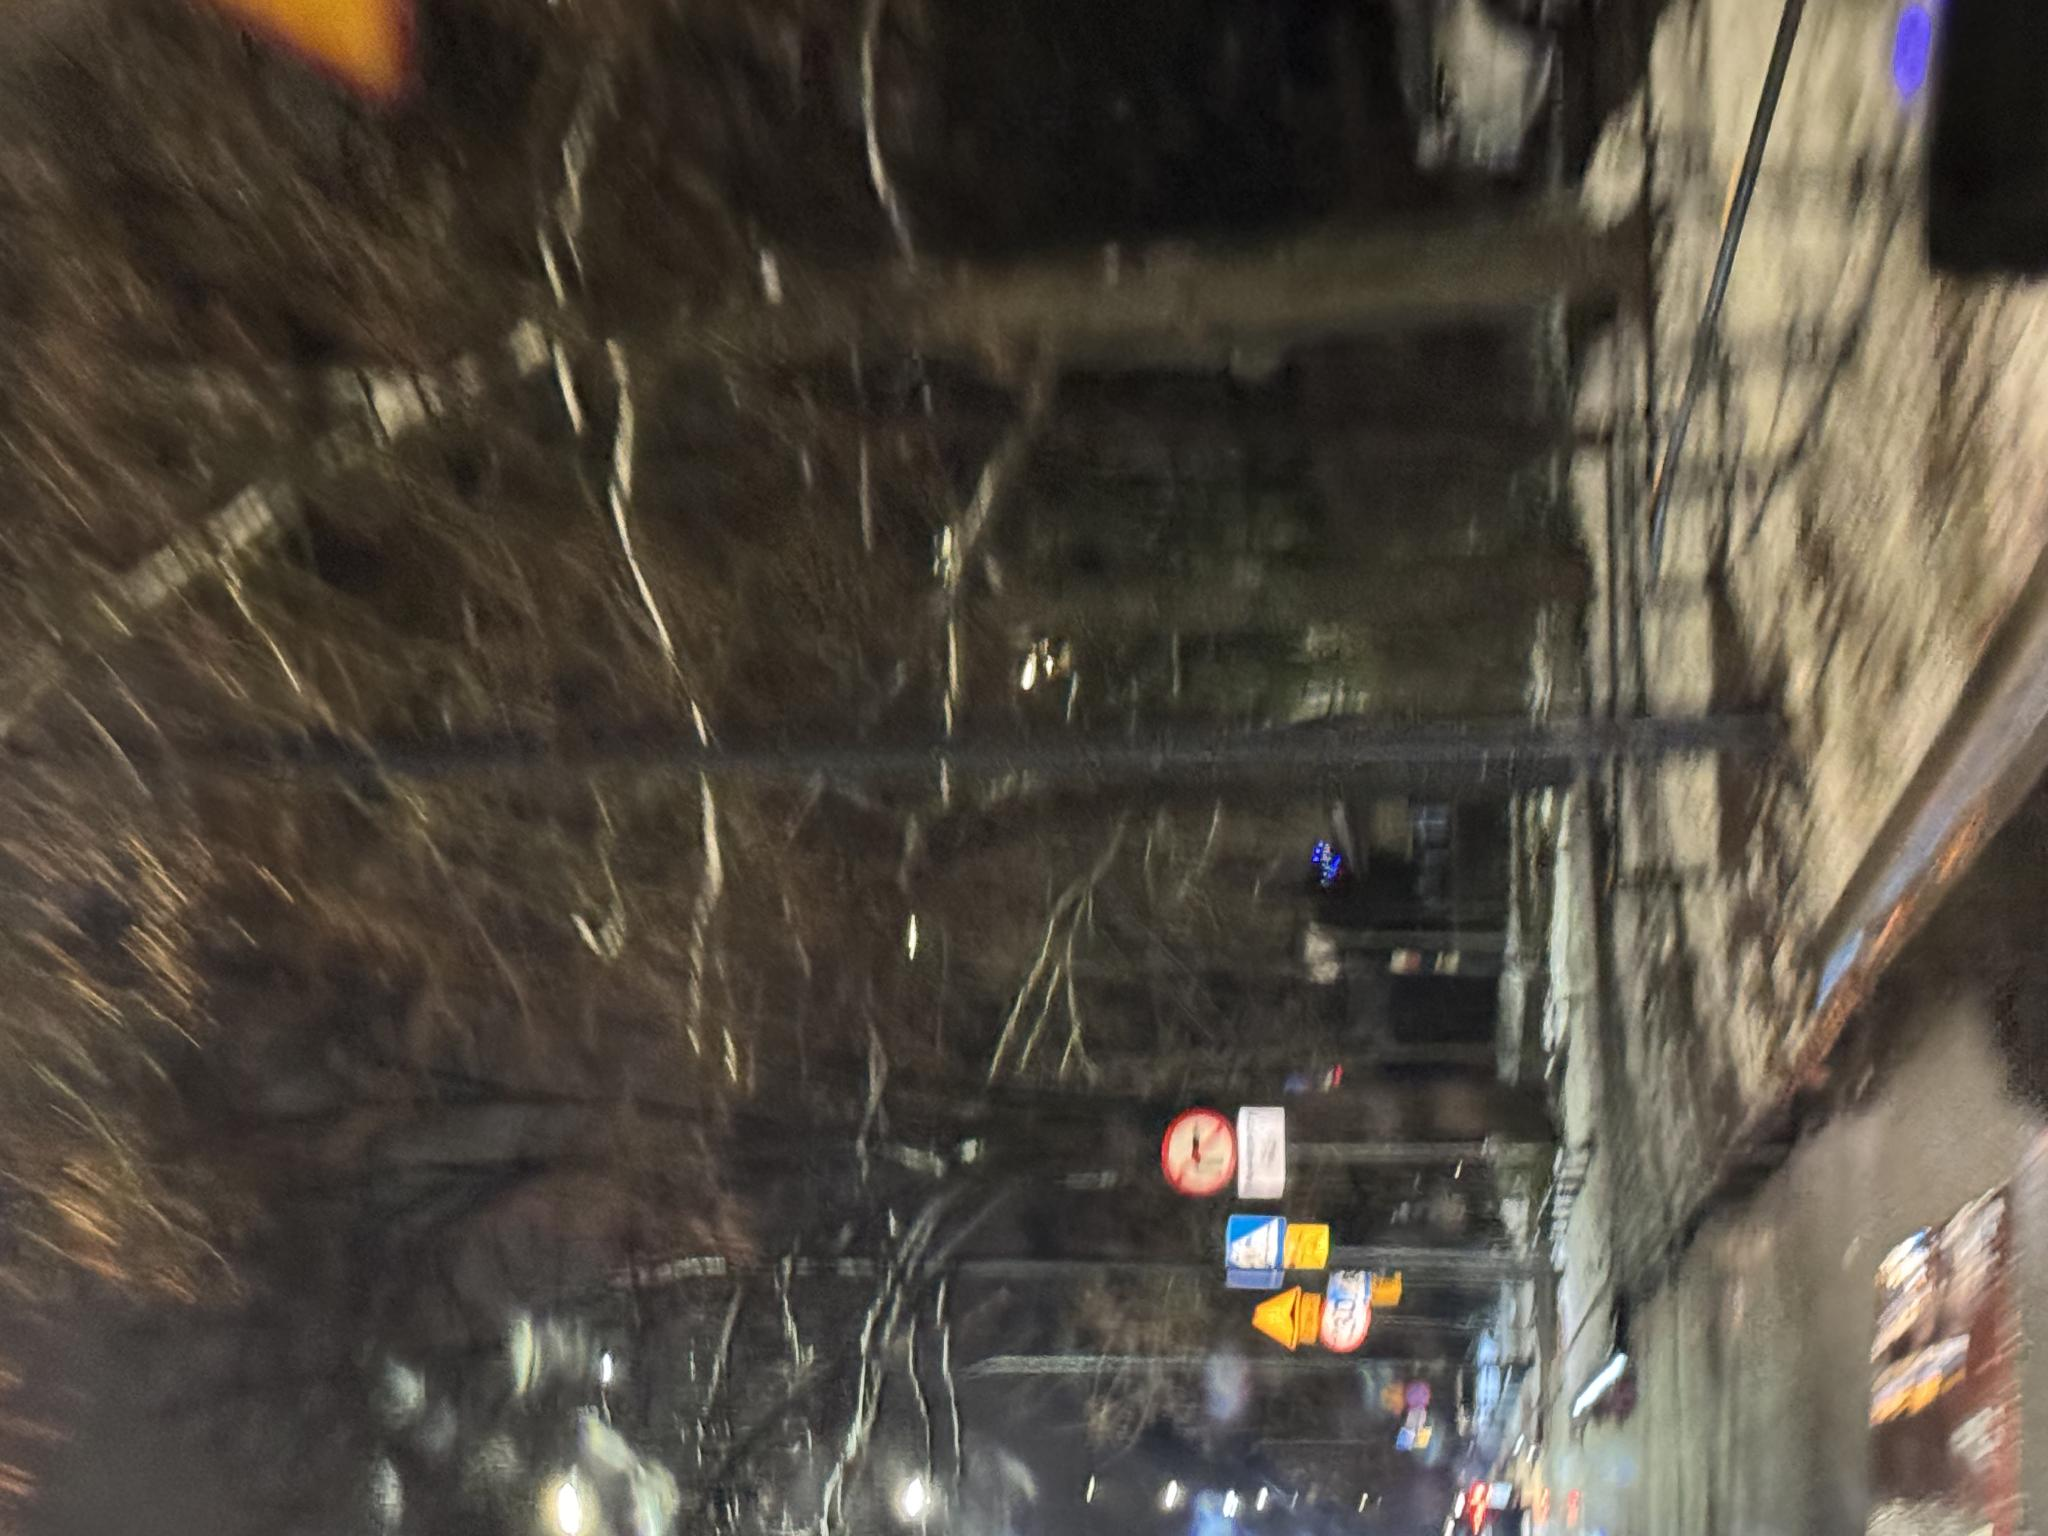information: (270, 1228, 324, 1286)
other: (336, 1238, 432, 1290)
prohibitory: (338, 1160, 430, 1238), (183, 1318, 239, 1370)
warning: (186, 1251, 252, 1301)
